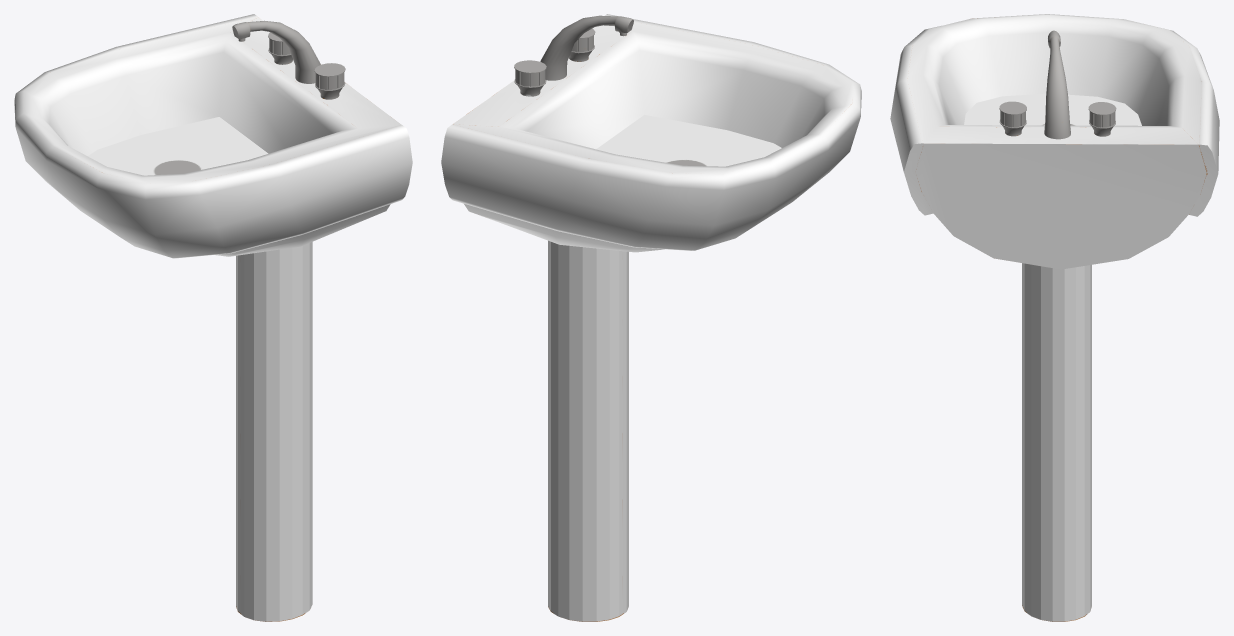
The model's file is Lavado.fbx.
The picture shows the model from 3 angles, left to right: view 1: azimuth 30°, elevation 25°; view 2: azimuth 150°, elevation 25°; view 3: azimuth 270°, elevation 25°; orthographic projection. The views are drawn at different scales.
Parts seen in each view (by area): view 1: Lavado(Mapeado)/texturizado); view 2: Lavado(Mapeado)/texturizado); view 3: Lavado(Mapeado)/texturizado).
Boxes of the visible parts, x1,y1,x2,y2 form: Lavado(Mapeado)/texturizado): [14, 14, 412, 621]; Lavado(Mapeado)/texturizado): [441, 14, 861, 621]; Lavado(Mapeado)/texturizado): [890, 14, 1219, 621].
Bounding box in the file's own units: 318 × 612 × 328.
